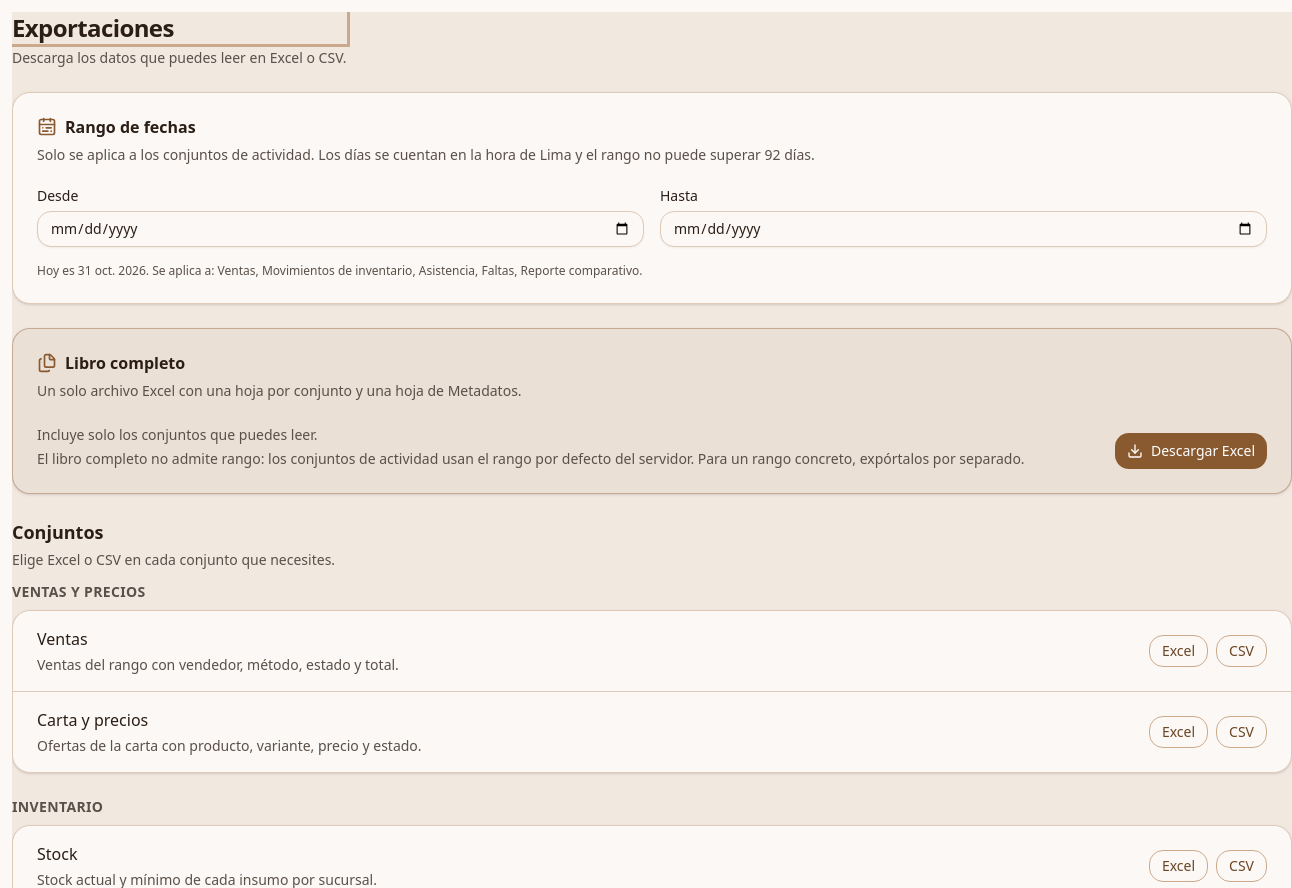
Test: ExportacionesPage: validación del rango › no exige rango a un conjunto sin actividad
This screenshot has width=1292, height=888.
Expected: the heading "Exportaciones" is shown, left=12, top=12, right=347, bottom=44
Click the button "CSV" in the row of "Carta y precios": {"x": 1242, "y": 732} left=1216, top=716, right=1267, bottom=748
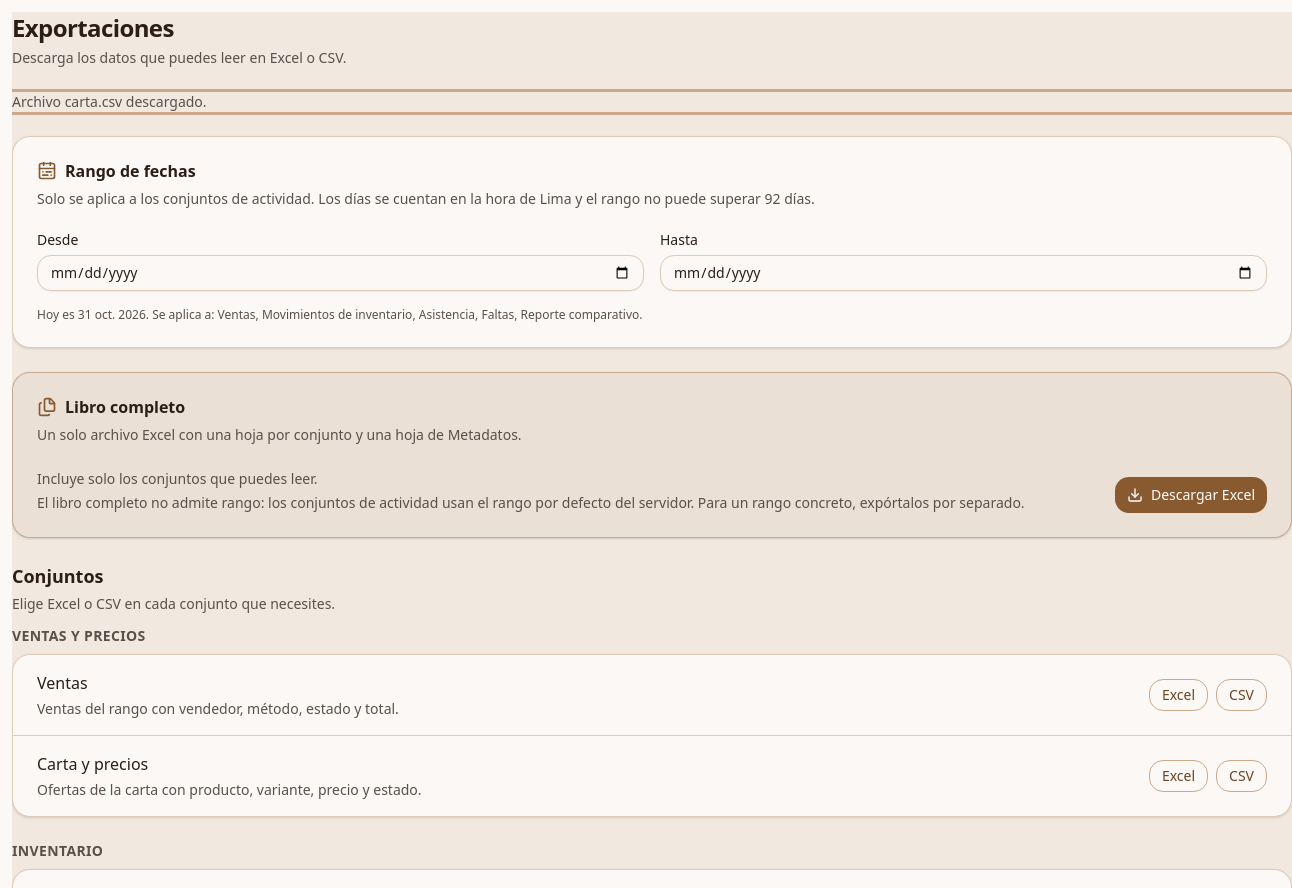
Expected: the text "Archivo carta.csv descargado." is shown, left=12, top=92, right=1291, bottom=112
